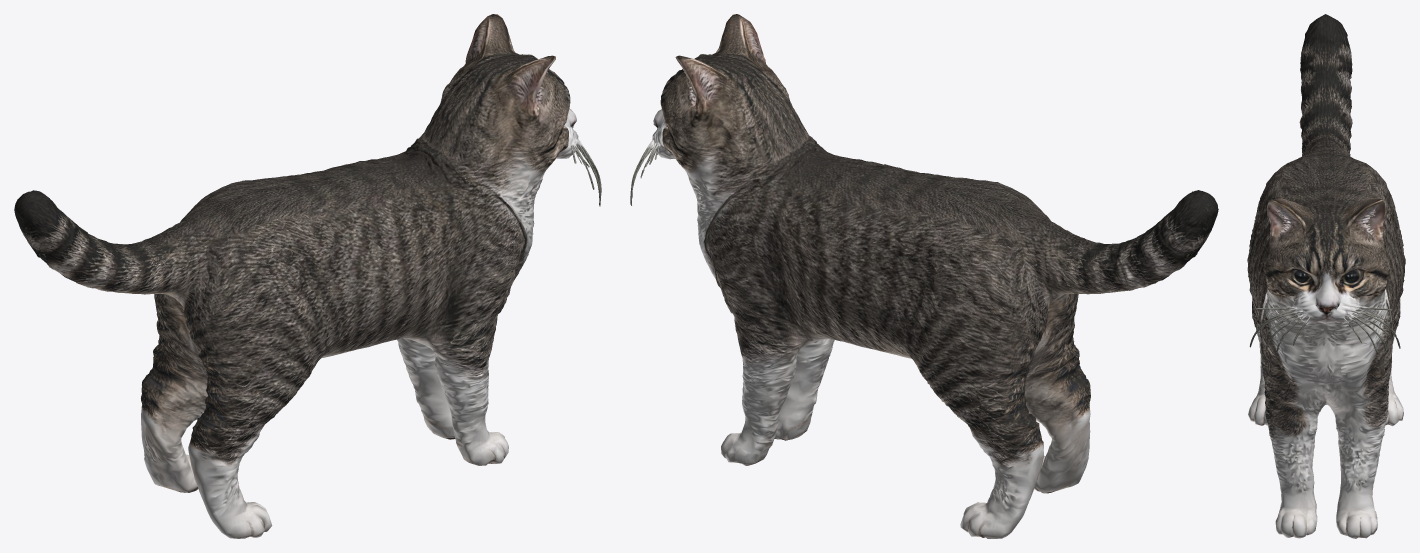
The model's file is KYURUGACAT.glb.
3 views of the same model, side by side, from view 1: azimuth 30°, elevation 25°; view 2: azimuth 150°, elevation 25°; view 3: azimuth 270°, elevation 25° (orthographic). The views are drawn at different scales.
Parts seen in each view (by area): view 1: tripo_node_63516225-c2f1-456e-adfd-27d0956dcbb8; view 2: tripo_node_63516225-c2f1-456e-adfd-27d0956dcbb8; view 3: tripo_node_63516225-c2f1-456e-adfd-27d0956dcbb8.
Part boxes in pixels (x1,y1,x2,y2): tripo_node_63516225-c2f1-456e-adfd-27d0956dcbb8: (14,14,601,538); tripo_node_63516225-c2f1-456e-adfd-27d0956dcbb8: (630,14,1218,538); tripo_node_63516225-c2f1-456e-adfd-27d0956dcbb8: (1247,14,1405,538).
Size of the model in its own units: 1.47 by 0.9993 by 0.4021.
1 material, 1 textured.
